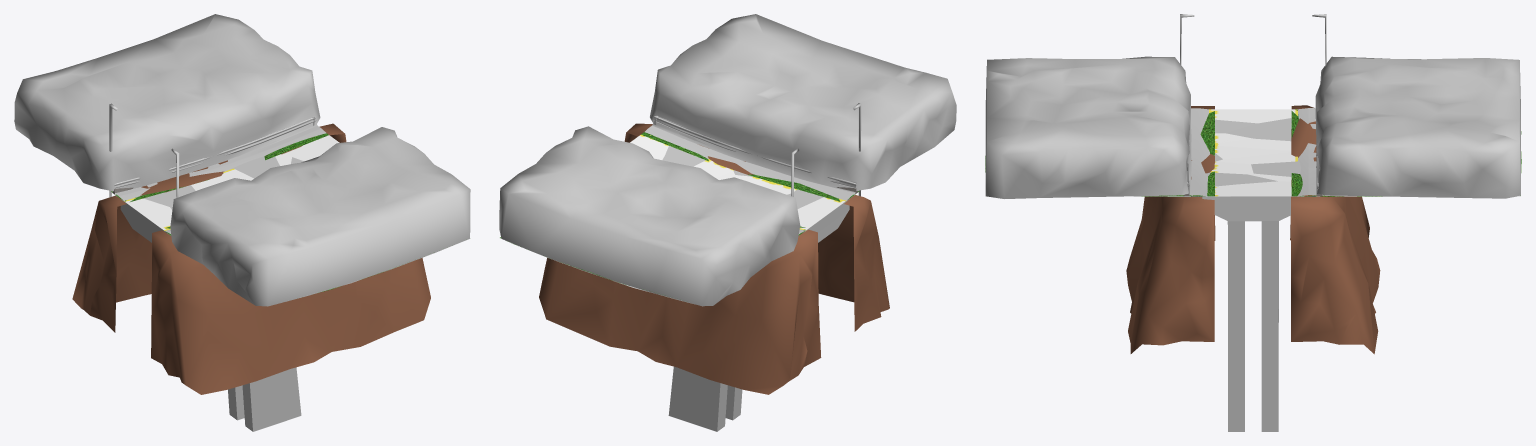
The model's file is RoadStraightUp_LOD2.fbx.
3 views of the same model, side by side, from view 1: azimuth 30°, elevation 25°; view 2: azimuth 150°, elevation 25°; view 3: azimuth 270°, elevation 25° (orthographic). The views are drawn at different scales.
Parts seen in each view (by area): view 1: MountainLeft, MountainRight, CliffRight, CliffLeft, Road, Road Mask, PianoLeft, RailGuardLeft, TerrainLeft; view 2: MountainRight, MountainLeft, CliffLeft, CliffRight, Road, Road Mask, PianoRight, RailGuardRight, TerrainRight; view 3: MountainRight, MountainLeft, CliffLeft, CliffRight, Road, Road Mask, PianoRight, PianoLeft, TerrainRight.
Part boxes in pixels (<box>): MountainLeft: <box>14,14,320,194</box>; MountainRight: <box>170,127,470,306</box>; CliffRight: <box>151,230,430,394</box>; CliffLeft: <box>72,123,346,332</box>; Road: <box>120,156,303,431</box>; Road Mask: <box>124,135,339,230</box>; PianoLeft: <box>112,125,326,200</box>; RailGuardLeft: <box>114,116,316,188</box>; TerrainLeft: <box>111,133,328,201</box>; MountainRight: <box>650,14,956,195</box>; MountainLeft: <box>499,126,800,306</box>; CliffLeft: <box>539,229,821,394</box>; CliffRight: <box>624,123,889,331</box>; Road: <box>662,146,849,431</box>; Road Mask: <box>630,135,846,230</box>; PianoRight: <box>645,125,858,200</box>; RailGuardRight: <box>653,116,856,188</box>; TerrainRight: <box>641,132,859,201</box>; MountainRight: <box>985,56,1192,198</box>; MountainLeft: <box>1315,56,1520,198</box>; CliffLeft: <box>1290,105,1380,354</box>; CliffRight: <box>1126,106,1215,353</box>; Road: <box>1202,115,1304,431</box>; Road Mask: <box>1209,109,1297,196</box>; PianoRight: <box>986,108,1209,196</box>; PianoLeft: <box>1297,108,1323,196</box>; TerrainRight: <box>985,111,1214,196</box>.
Size of what is drawn, in the model's own units: 636 by 747 by 1051.
